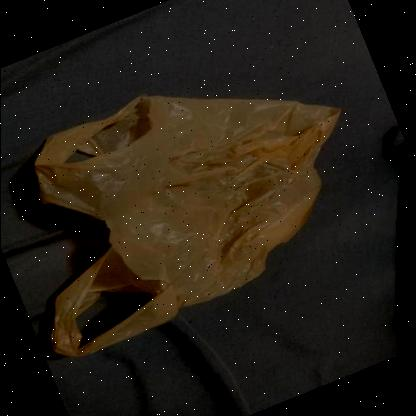Others: (30, 97, 340, 360)
